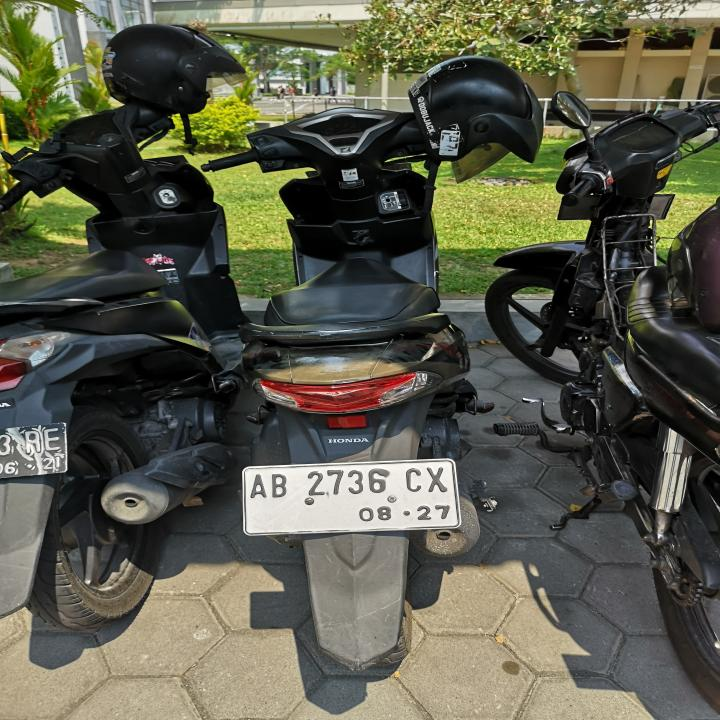plate: (239, 454, 463, 538)
